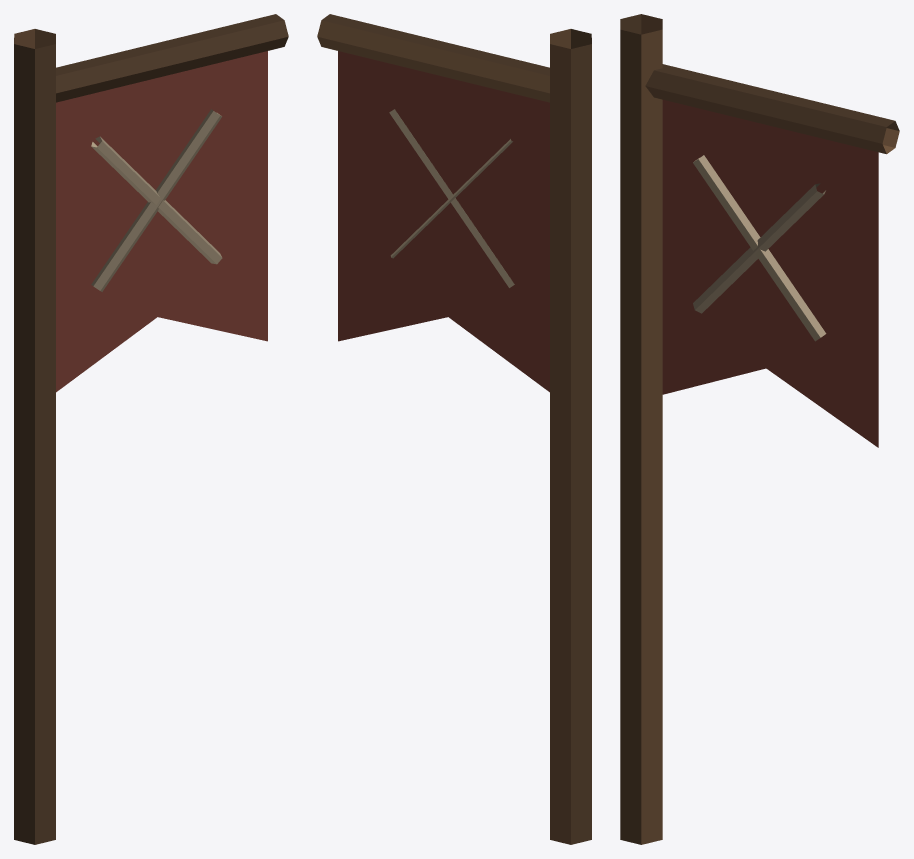
The picture shows the model from 3 angles, left to right: view 1: azimuth 30°, elevation 25°; view 2: azimuth 150°, elevation 25°; view 3: azimuth 330°, elevation 25°; orthographic projection.
Parts seen in each view (by area): view 1: 46c3db755a71ea4aac1e74cb7a3d29336fb1a269dae58167c63639267ed7; view 2: 46c3db755a71ea4aac1e74cb7a3d29336fb1a269dae58167c63639267ed7; view 3: 46c3db755a71ea4aac1e74cb7a3d29336fb1a269dae58167c63639267ed7.
Boxes of the visible parts, x1,y1,x2,y2 form: 46c3db755a71ea4aac1e74cb7a3d29336fb1a269dae58167c63639267ed7: (14,14,288,844); 46c3db755a71ea4aac1e74cb7a3d29336fb1a269dae58167c63639267ed7: (317,14,591,844); 46c3db755a71ea4aac1e74cb7a3d29336fb1a269dae58167c63639267ed7: (620,14,899,844).
Bounding box in the file's own units: 1.09 × 3.1 × 0.1472.
Materials: 2 (1 with a texture image).
